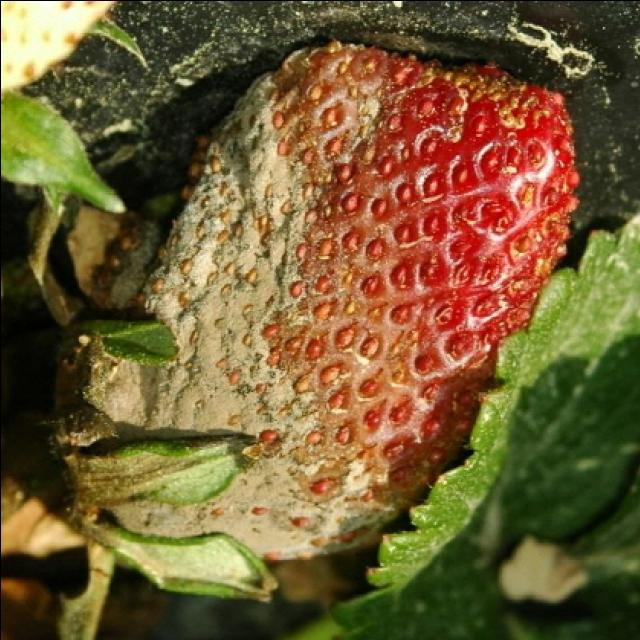Gray Mold: (42, 39, 582, 599)
